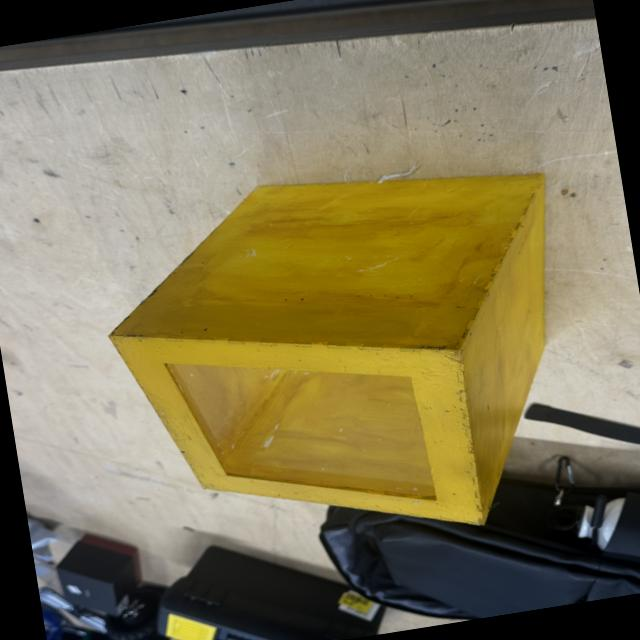yellow_bin: (88, 142, 598, 578)
